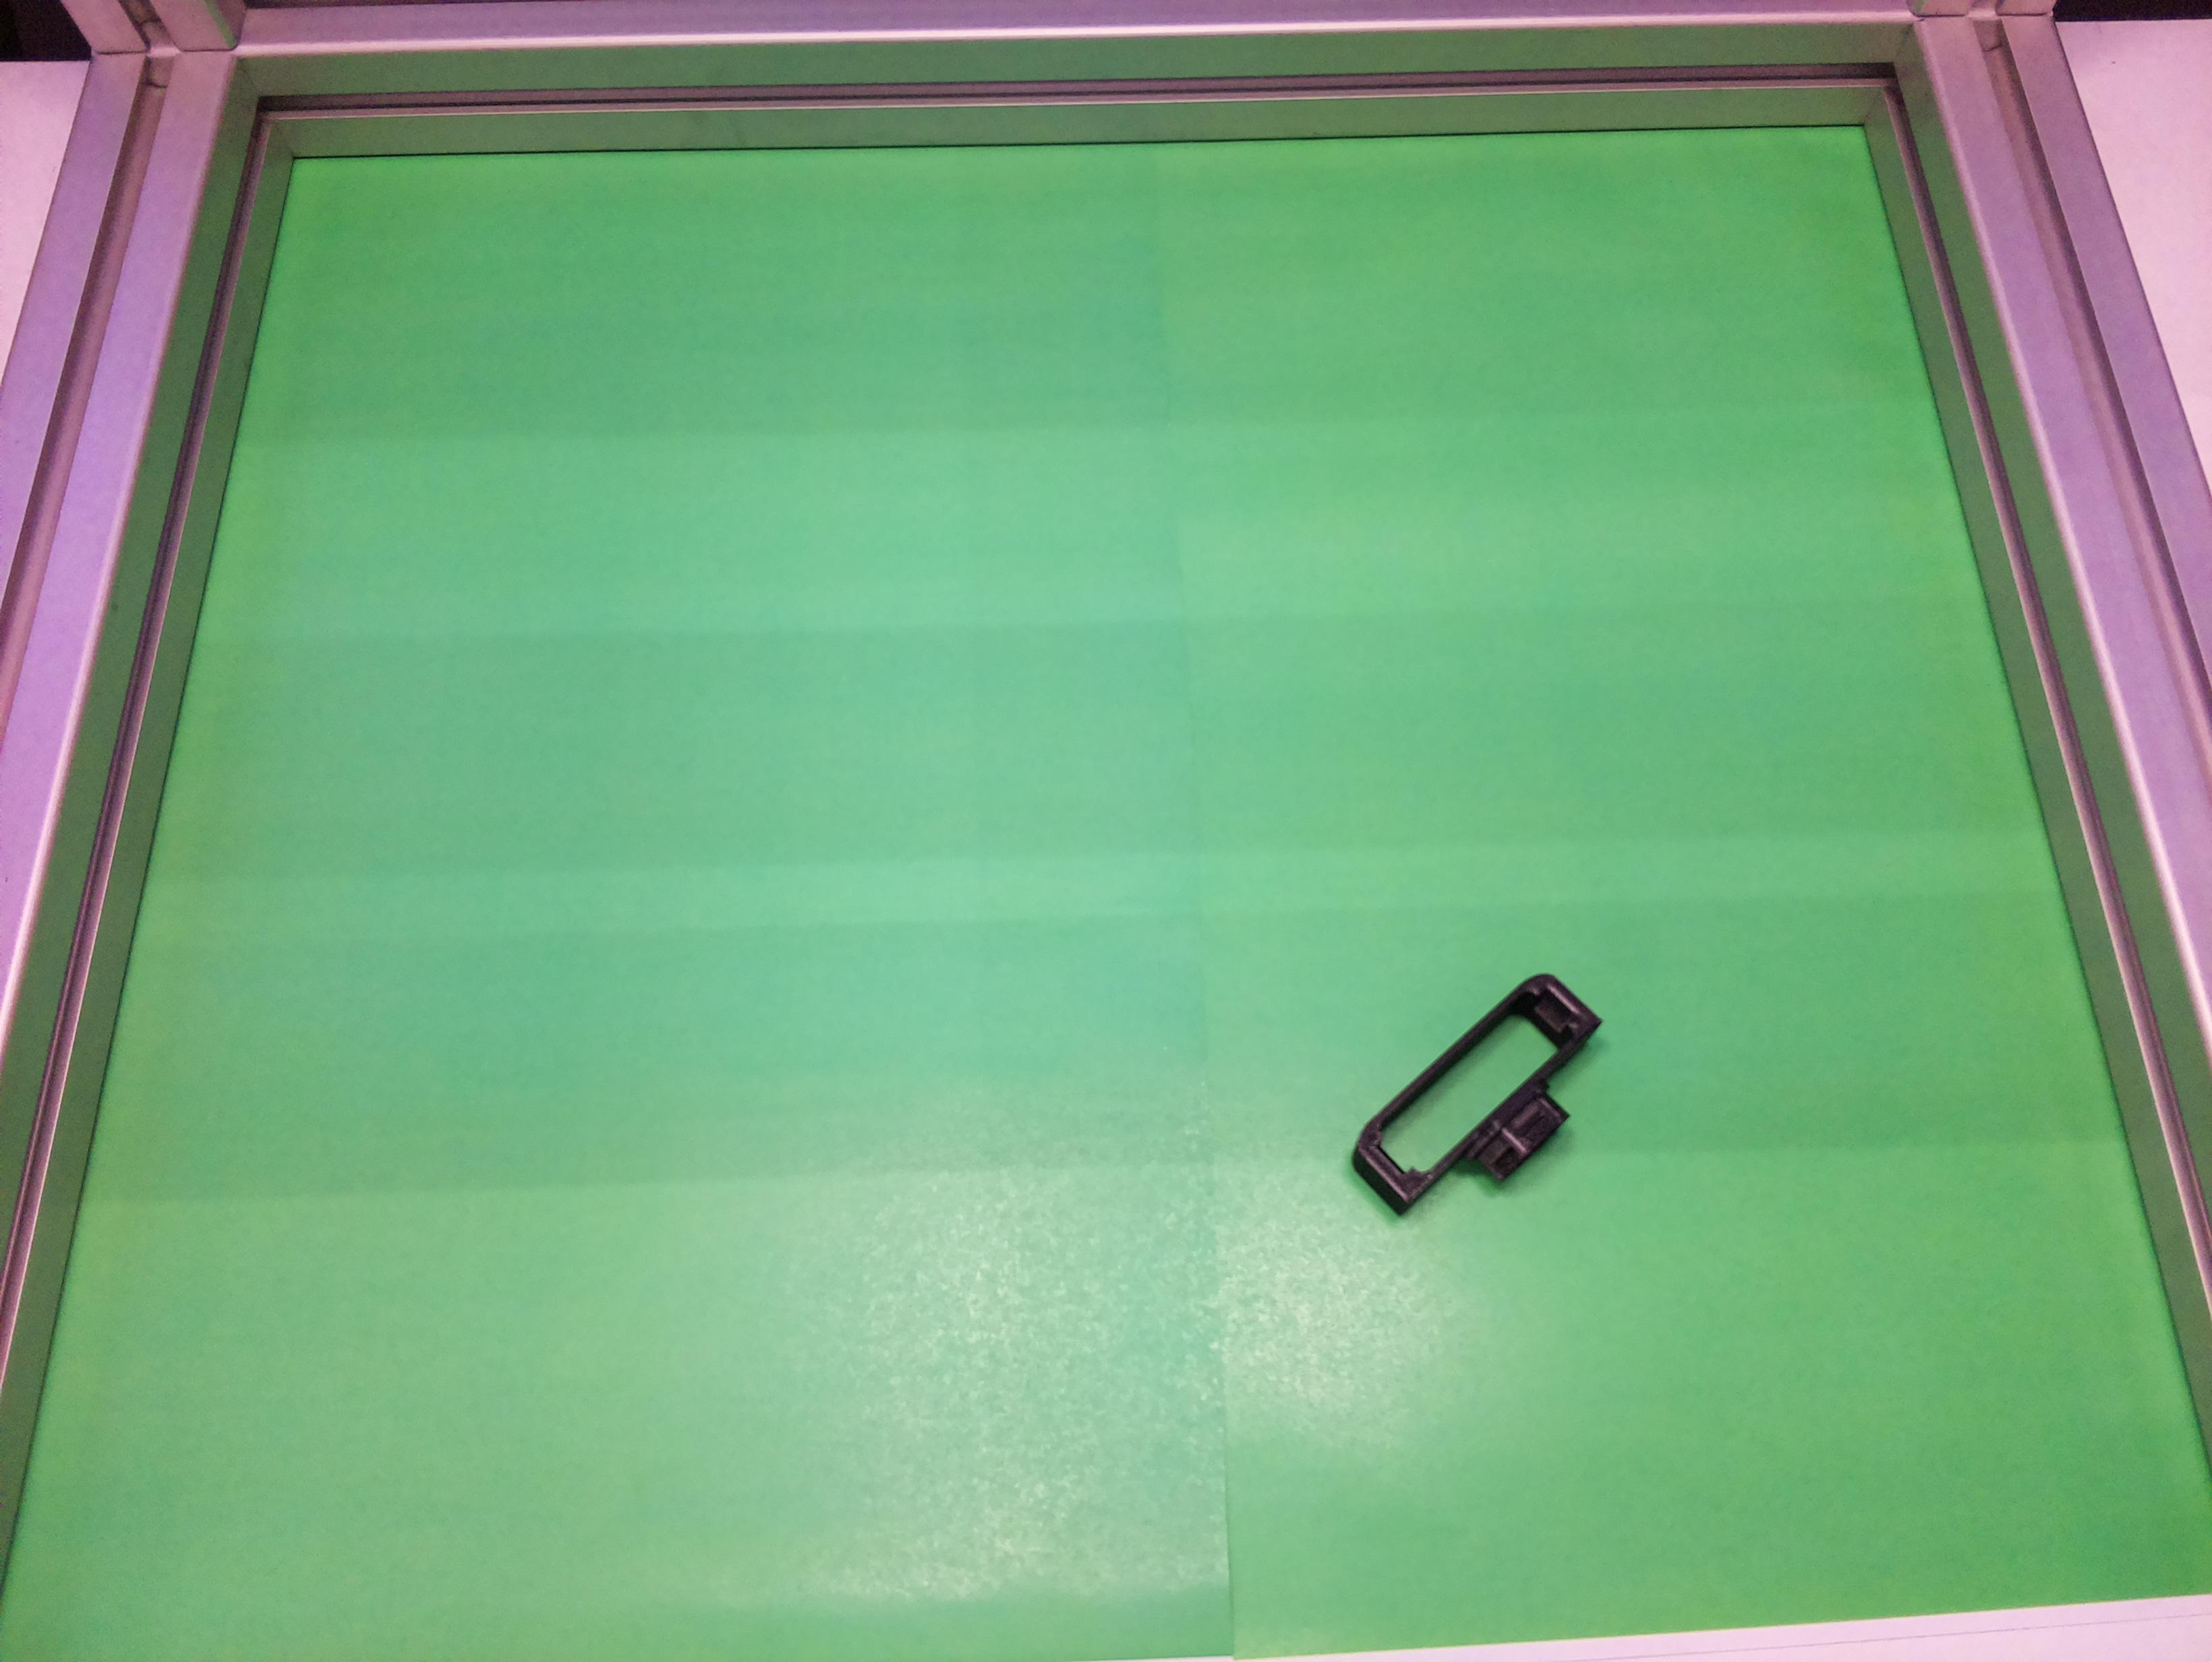cutter_holder: (1337, 955, 1632, 1252)
